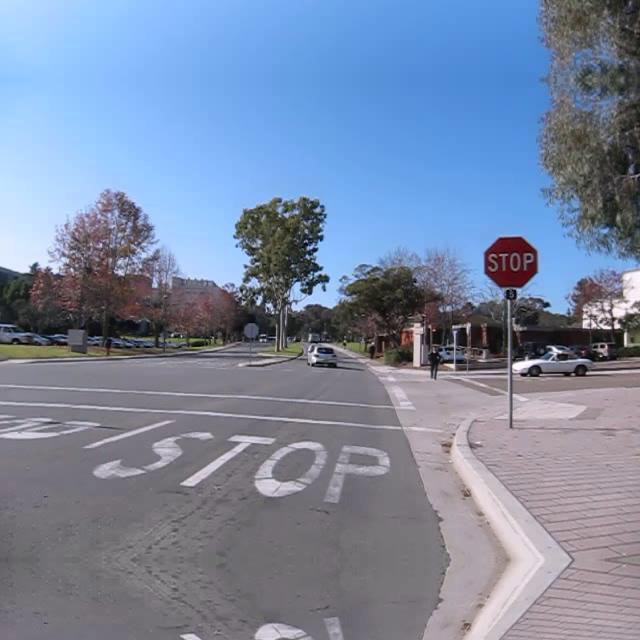stop: (482, 235, 538, 289)
